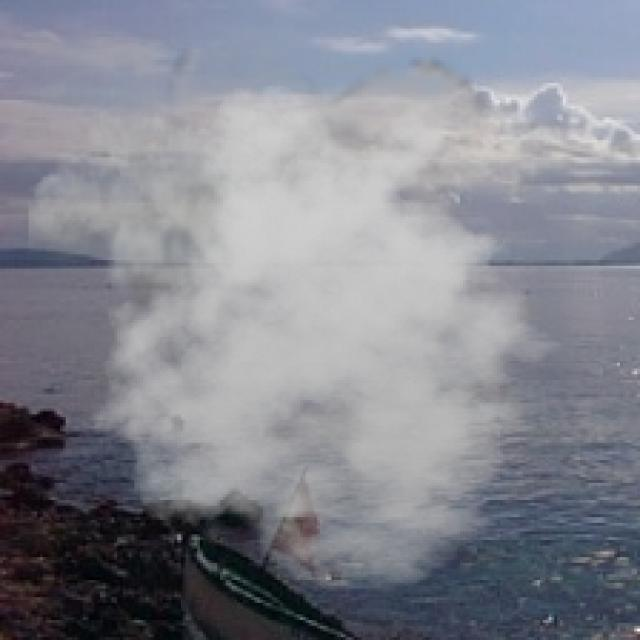smoke: (28, 49, 586, 594)
